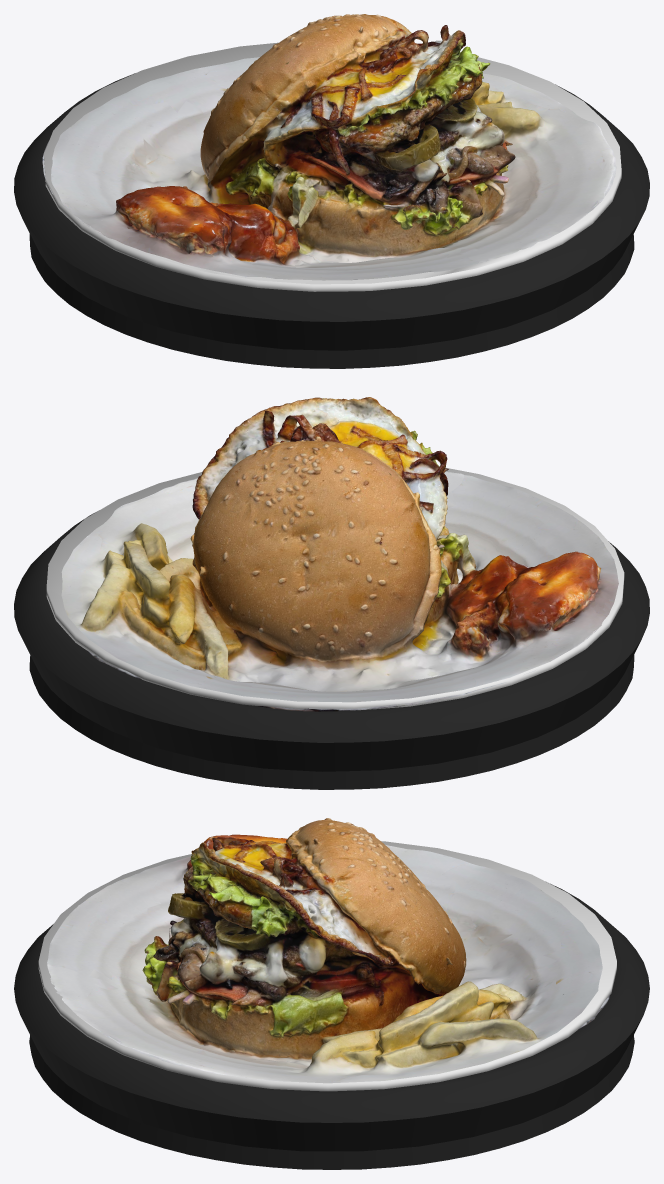
Rendered from 81_processed.glb.
The picture shows the model from 3 angles, top to bottom: view 1: azimuth 30°, elevation 25°; view 2: azimuth 150°, elevation 25°; view 3: azimuth 270°, elevation 25°; orthographic projection.
Parts seen in each view (by area): view 1: 81_processed; view 2: 81_processed; view 3: 81_processed.
Boxes of the visible parts, x1,y1,x2,y2 form: 81_processed: (14,14,649,368); 81_processed: (14,397,649,789); 81_processed: (14,818,649,1169).
Bounding box in the file's own units: 2.1 × 0.8116 × 2.1.
Materials: 3 (1 with a texture image).
